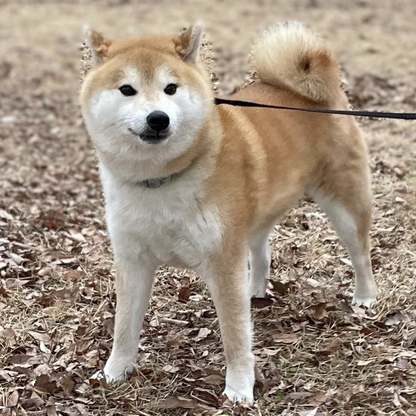shiba: (70, 12, 386, 409)
